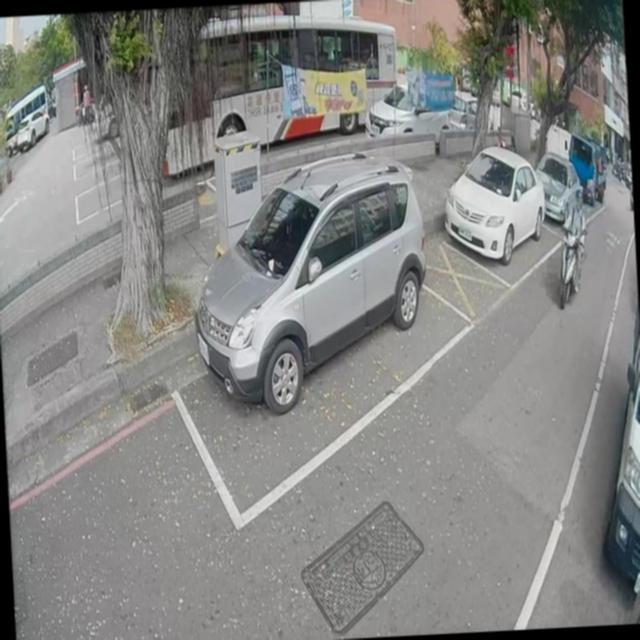person: (554, 182, 590, 299), (79, 78, 92, 125)
